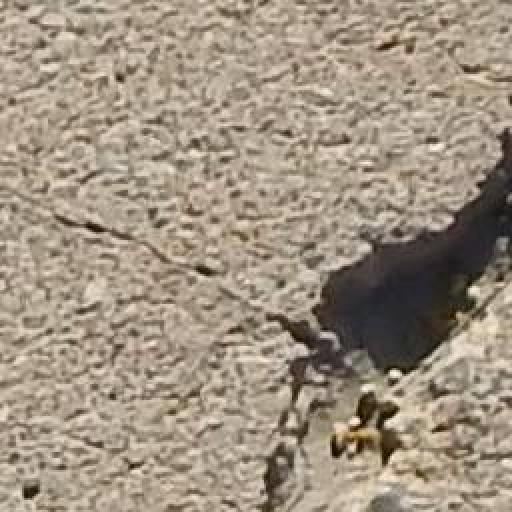spalling: (221, 111, 509, 505)
